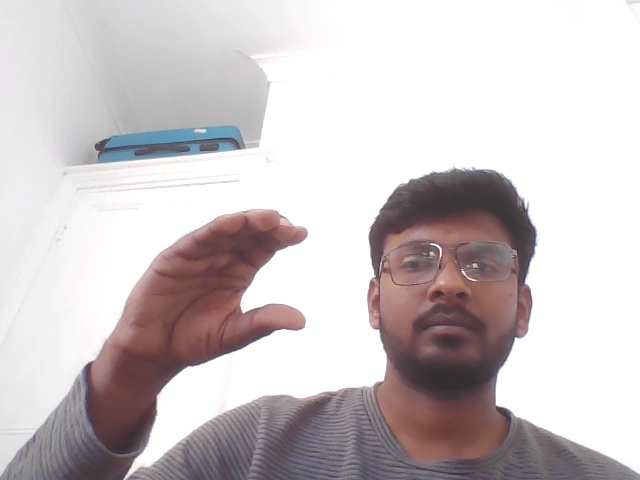No: (103, 198, 334, 448)
